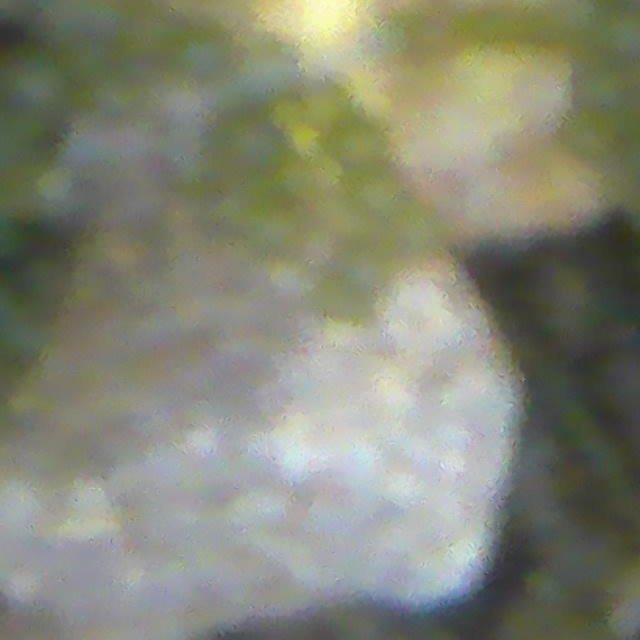SeaGrape: (332, 118, 387, 172), (299, 76, 354, 130)
